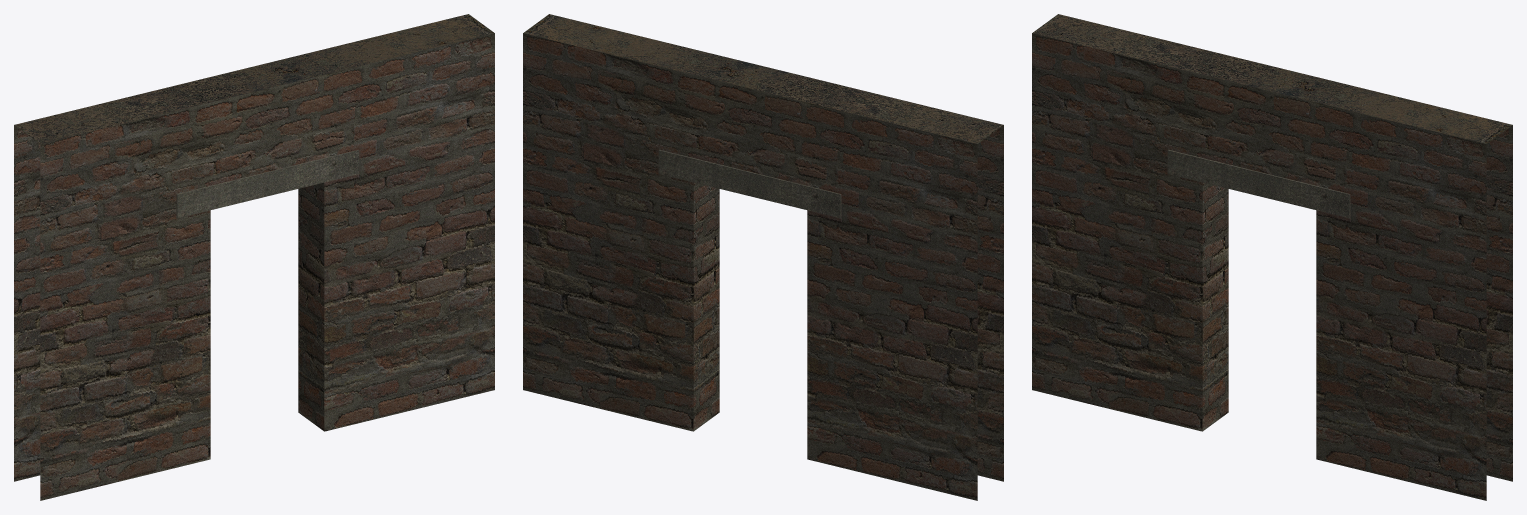
File: doorway_hr_2_regular.glb
3 renders of one model, left to right at view 1: azimuth 30°, elevation 25°; view 2: azimuth 150°, elevation 25°; view 3: azimuth 330°, elevation 25°, orthographic.
Parts seen in each view (by area): view 1: doorway_hr_2_regular; view 2: doorway_hr_2_regular; view 3: doorway_hr_2_regular.
Boxes of the visible parts, x1,y1,x2,y2 form: doorway_hr_2_regular: (14, 14, 494, 500); doorway_hr_2_regular: (523, 14, 1003, 500); doorway_hr_2_regular: (1032, 14, 1512, 500).
Size of the model in its own units: 4 by 3 by 0.42.
3 materials, 3 textured.
